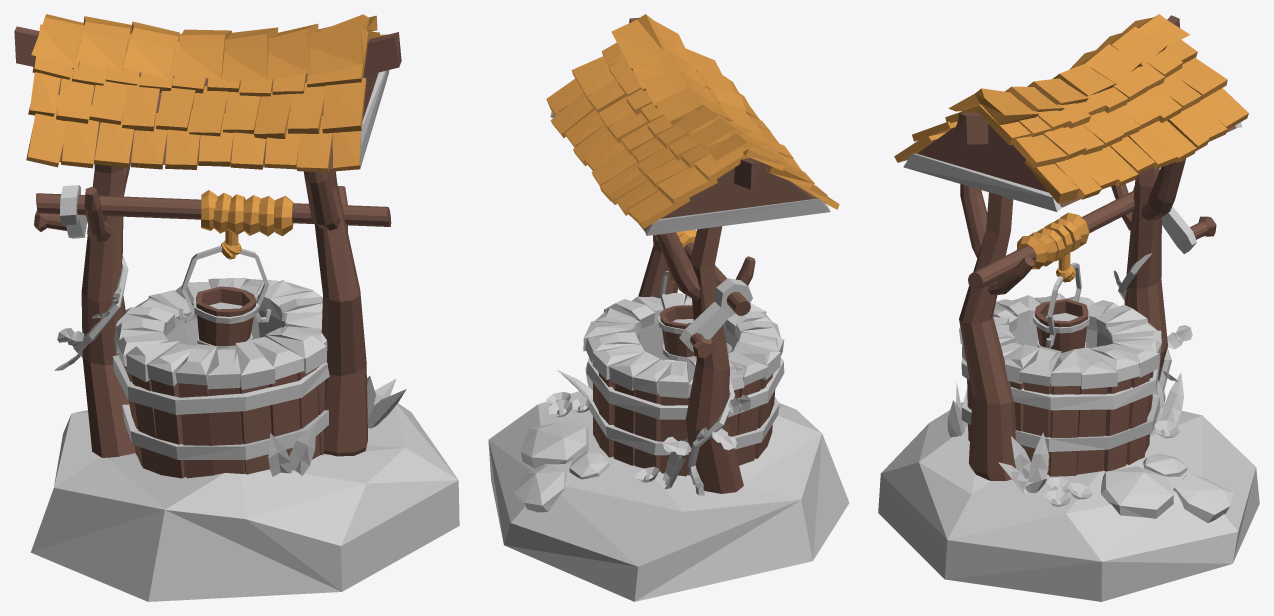
3 renders of one model, left to right at view 1: azimuth 30°, elevation 25°; view 2: azimuth 150°, elevation 25°; view 3: azimuth 270°, elevation 25°, orthographic. The views are drawn at different scales.
Parts seen in each view (by area): view 1: group1293293119, group1784896143, group1816269119, group1378999907, group1463751419, group712474116, group784225283, group819284552, group904038137, group543979763, group1636832775, group156962315 (+36 smaller); view 2: group1293293119, group1784896143, group1378999907, group1984699503, group644428560, group784225283, group511529357, group464703084, group1463751419, group156962315, group904038137, group543979763 (+26 smaller); view 3: group1293293119, group1784896143, group1816269119, group1984699503, group1378999907, group644428560, group1463751419, group712474116, group464703084, group784225283, group819284552, group1636832775 (+34 smaller).
Part boxes in pixels (x1,y1,x2,y2): group1293293119: [30, 403, 459, 601]; group1784896143: [112, 278, 329, 478]; group1816269119: [303, 169, 367, 456]; group1378999907: [81, 164, 135, 457]; group1463751419: [178, 245, 271, 348]; group712474116: [36, 193, 391, 226]; group784225283: [308, 14, 377, 75]; group819284552: [122, 21, 179, 79]; group904038137: [173, 29, 231, 79]; group543979763: [222, 27, 278, 81]; group1636832775: [75, 16, 131, 72]; group156962315: [264, 23, 318, 80]; group1293293119: [488, 391, 849, 601]; group1784896143: [583, 293, 784, 476]; group1378999907: [656, 226, 755, 493]; group1984699503: [550, 111, 830, 235]; group644428560: [520, 422, 588, 468]; group784225283: [611, 14, 693, 70]; group511529357: [679, 278, 752, 352]; group464703084: [514, 464, 567, 512]; group1463751419: [658, 270, 696, 361]; group156962315: [629, 48, 704, 90]; group904038137: [655, 86, 733, 124]; group543979763: [642, 67, 715, 108]; group1293293119: [878, 402, 1259, 601]; group1784896143: [959, 293, 1161, 476]; group1816269119: [959, 184, 1034, 480]; group1984699503: [903, 122, 1241, 211]; group1378999907: [1111, 158, 1186, 379]; group644428560: [1101, 466, 1173, 518]; group1463751419: [1032, 262, 1089, 352]; group712474116: [968, 190, 1134, 289]; group464703084: [1173, 473, 1233, 522]; group784225283: [948, 88, 1038, 124]; group819284552: [1069, 44, 1141, 84]; group1636832775: [1096, 26, 1167, 66].
Size of the model in its own units: 0.4501 by 0.5819 by 0.4214.
